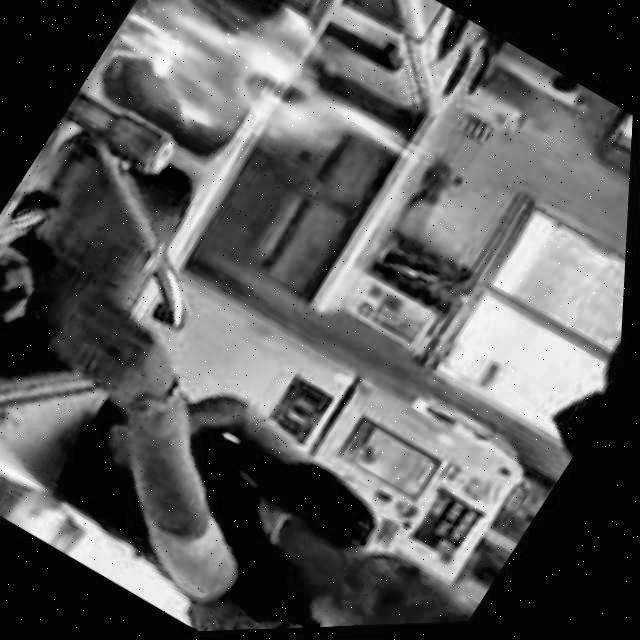Fire: (86, 0, 439, 230)
